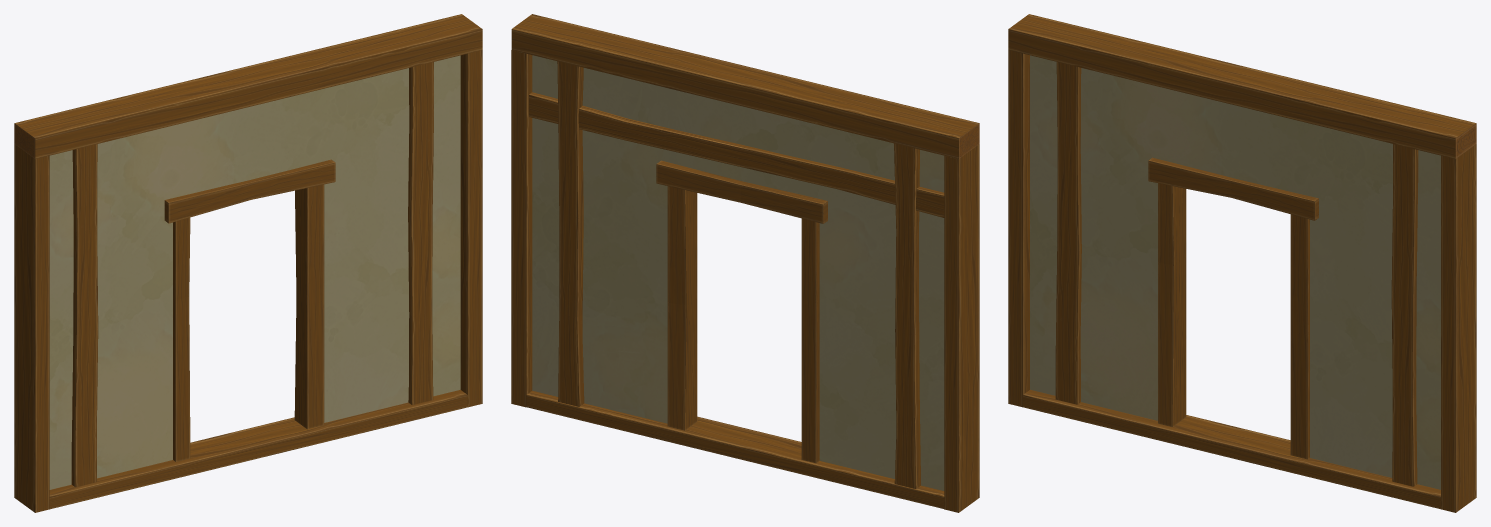
File: SM_House_Wall_5x4_Door_B_01.fbx
3 views of the same model, side by side, from view 1: azimuth 30°, elevation 25°; view 2: azimuth 150°, elevation 25°; view 3: azimuth 330°, elevation 25° (orthographic).
Visible parts, largest first — view 1: SM_House_Wall_5x4_Door_B_01; view 2: SM_House_Wall_5x4_Door_B_01; view 3: SM_House_Wall_5x4_Door_B_01.
Boxes of the visible parts, x1=… form: SM_House_Wall_5x4_Door_B_01: x1=14, y1=14, x2=482, y2=512; SM_House_Wall_5x4_Door_B_01: x1=511, y1=14, x2=979, y2=512; SM_House_Wall_5x4_Door_B_01: x1=1008, y1=14, x2=1476, y2=512.
Bounding box in the file's own units: 5 × 4 × 0.4024.
